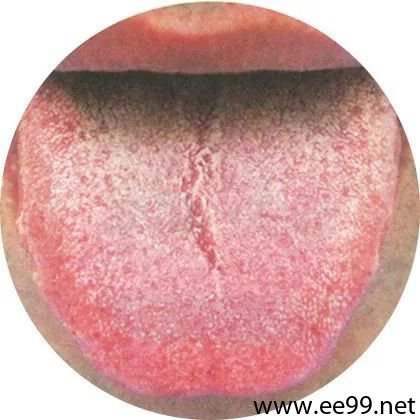baitaishe: (18, 78, 402, 399)
